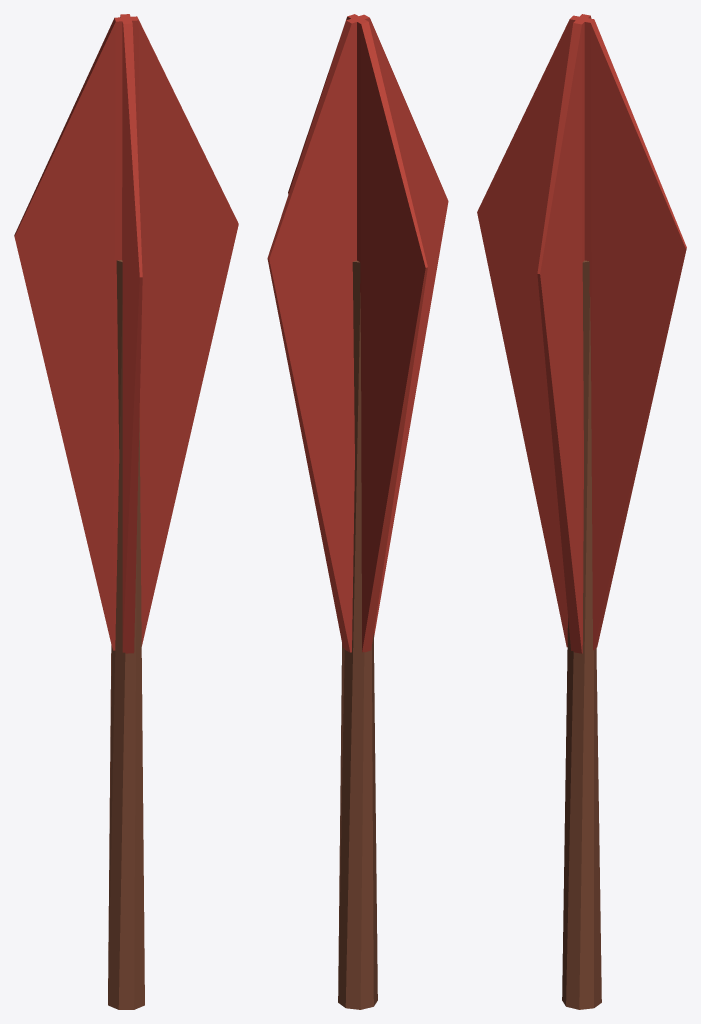
File: Tree_30_summer_red_mat.fbx
The picture shows the model from 3 angles, left to right: view 1: azimuth 30°, elevation 25°; view 2: azimuth 150°, elevation 25°; view 3: azimuth 270°, elevation 25°; orthographic projection.
Visible parts, largest first — view 1: Tree_30_summer_red_mat; view 2: Tree_30_summer_red_mat; view 3: Tree_30_summer_red_mat.
Part boxes in pixels (x1=…): Tree_30_summer_red_mat: x1=14, y1=14, x2=238, y2=1009; Tree_30_summer_red_mat: x1=267, y1=14, x2=448, y2=1009; Tree_30_summer_red_mat: x1=477, y1=14, x2=686, y2=1009.
Bounding box in the file's own units: 48.99 × 253 × 48.99.
